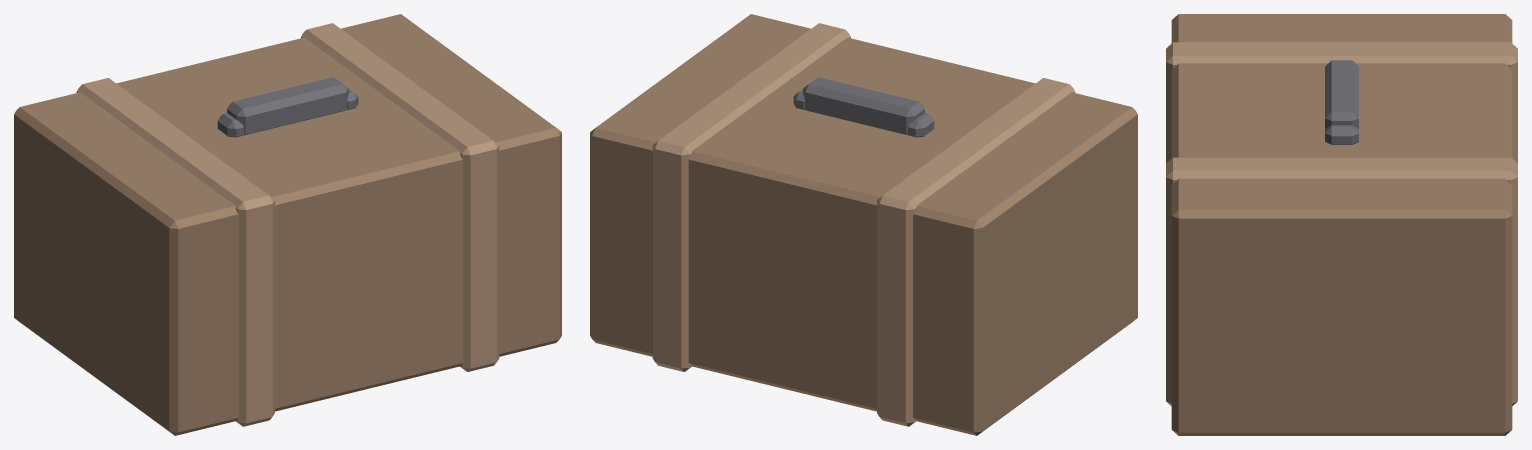
The model's file is SM_Suitcase.fbx.
3 views of the same model, side by side, from view 1: azimuth 30°, elevation 25°; view 2: azimuth 150°, elevation 25°; view 3: azimuth 270°, elevation 25° (orthographic). The views are drawn at different scales.
Parts seen in each view (by area): view 1: Suitcase; view 2: Suitcase; view 3: Suitcase.
Part boxes in pixels (x1=…): Suitcase: x1=14, y1=14, x2=561, y2=435; Suitcase: x1=590, y1=14, x2=1137, y2=435; Suitcase: x1=1166, y1=14, x2=1517, y2=435.
Bounding box in the file's own units: 42 × 25 × 31.
